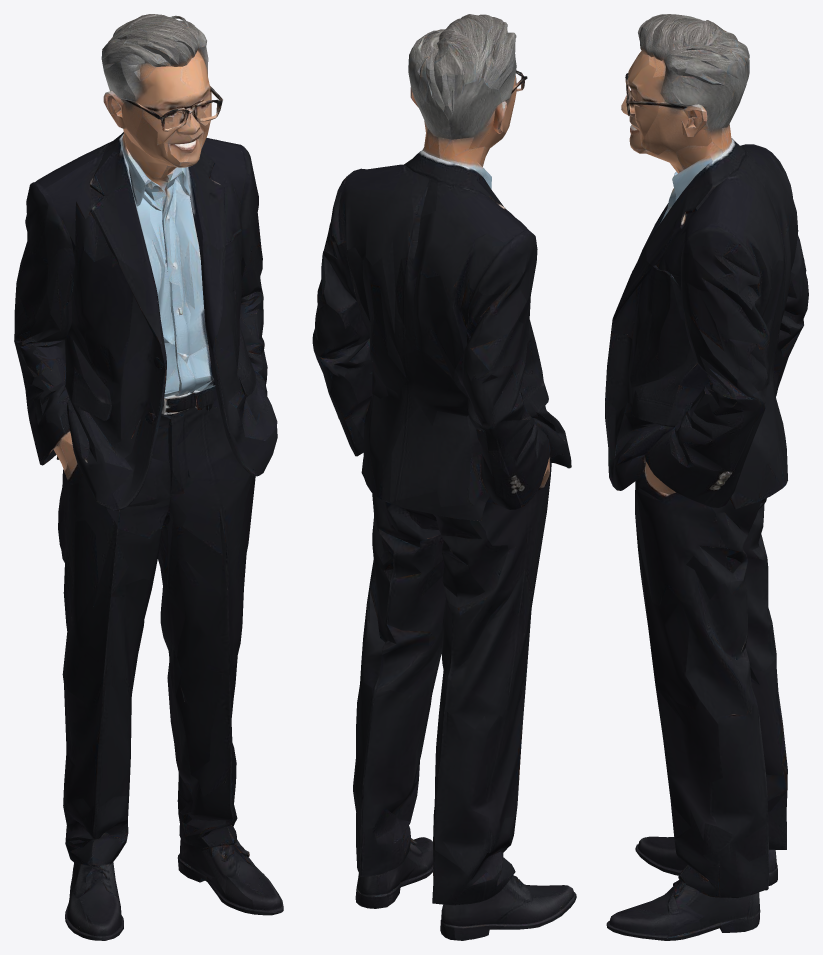
The model's file is taiju.glb.
3 views of the same model, side by side, from view 1: azimuth 30°, elevation 25°; view 2: azimuth 150°, elevation 25°; view 3: azimuth 270°, elevation 25° (orthographic).
Bounding box in the file's own units: 0.5049 × 1.9 × 0.4021.
1 material, 1 textured.
